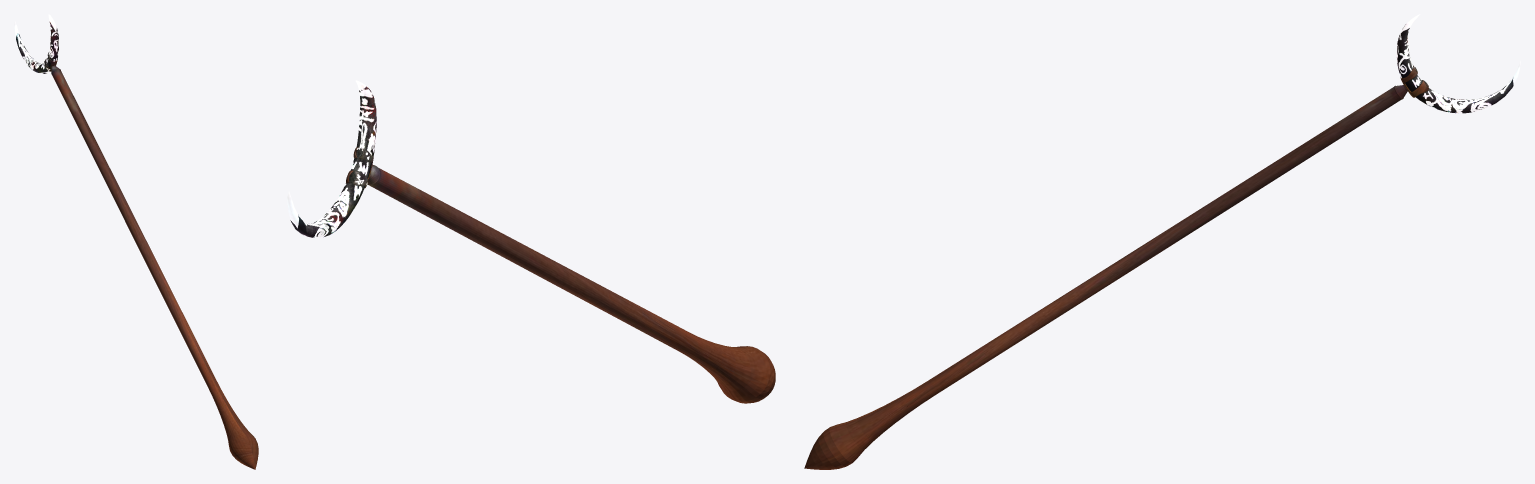
Rendered from scepter.glb.
3 views of the same model, side by side, from view 1: azimuth 30°, elevation 25°; view 2: azimuth 150°, elevation 25°; view 3: azimuth 270°, elevation 25° (orthographic). The views are drawn at different scales.
Visible parts, largest first — view 1: Cetro_Stick_LOW001_03 - Default_0, Cetro_Stick_LOW001_02 - Default_0; view 2: Cetro_Stick_LOW001_03 - Default_0, Cetro_Stick_LOW001_02 - Default_0; view 3: Cetro_Stick_LOW001_03 - Default_0, Cetro_Stick_LOW001_02 - Default_0.
Part boxes in pixels (x1=…): Cetro_Stick_LOW001_03 - Default_0: x1=43, y1=52, x2=258, y2=469; Cetro_Stick_LOW001_02 - Default_0: x1=14, y1=14, x2=58, y2=73; Cetro_Stick_LOW001_03 - Default_0: x1=346, y1=147, x2=775, y2=403; Cetro_Stick_LOW001_02 - Default_0: x1=287, y1=80, x2=376, y2=238; Cetro_Stick_LOW001_03 - Default_0: x1=804, y1=65, x2=1428, y2=469; Cetro_Stick_LOW001_02 - Default_0: x1=1396, y1=14, x2=1520, y2=113.
Bounding box in the file's own units: 45.41 × 535 × 764.
Materials: 2 (2 with a texture image).
